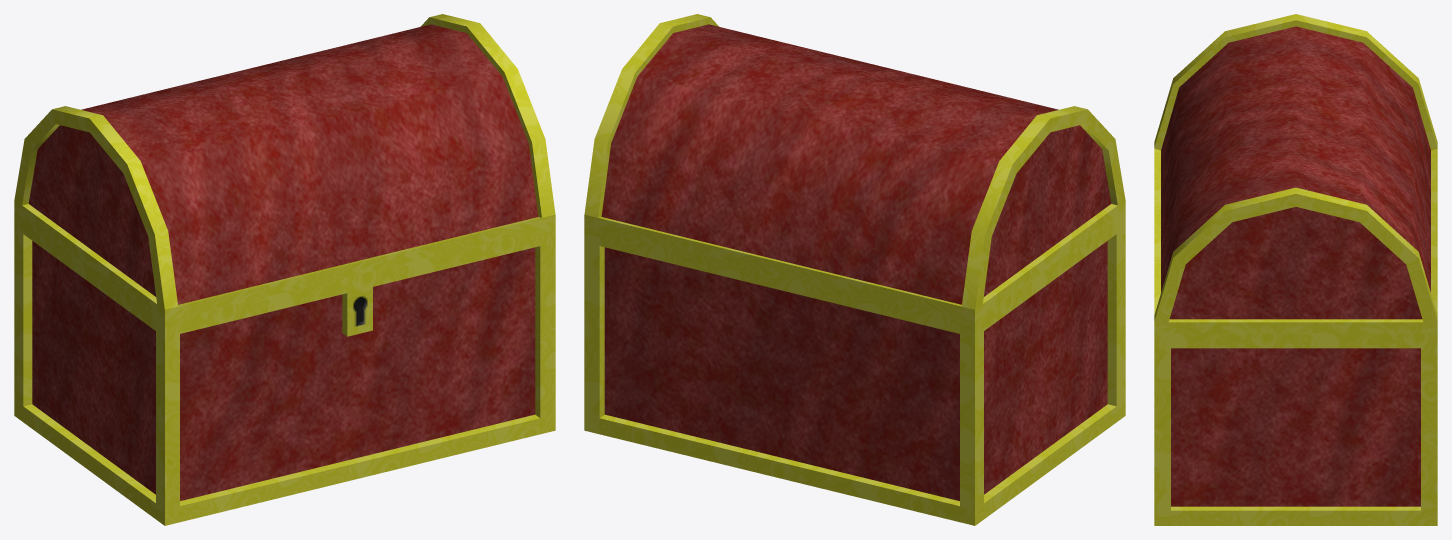
The model's file is Chest.fbx.
The picture shows the model from 3 angles, left to right: view 1: azimuth 30°, elevation 25°; view 2: azimuth 150°, elevation 25°; view 3: azimuth 270°, elevation 25°; orthographic projection. The views are drawn at different scales.
Parts seen in each view (by area): view 1: Base, Lid; view 2: Base, Lid; view 3: Lid, Base.
Boxes of the visible parts, bbox=[...] form: Base: bbox=[14, 211, 555, 525]; Lid: bbox=[14, 14, 555, 321]; Base: bbox=[584, 211, 1125, 525]; Lid: bbox=[584, 14, 1125, 321]; Lid: bbox=[1154, 14, 1437, 333]; Base: bbox=[1154, 333, 1437, 525].
Size of the model in its own units: 6 by 5.17 by 4.
